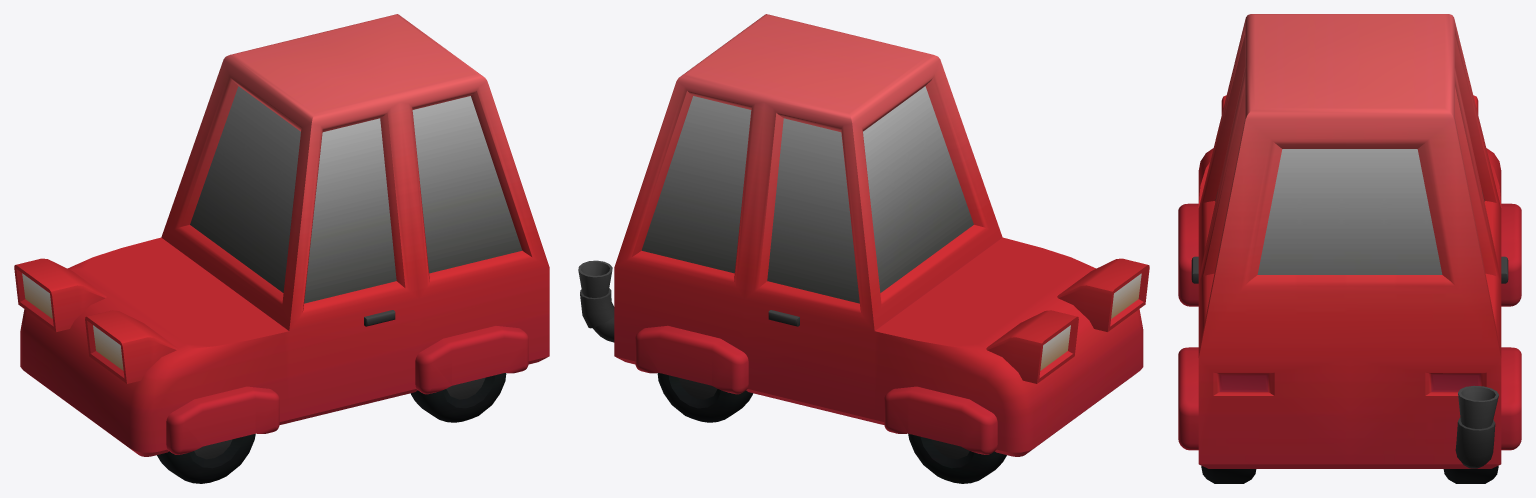
File: car-red.glb
3 renders of one model, left to right at view 1: azimuth 30°, elevation 25°; view 2: azimuth 150°, elevation 25°; view 3: azimuth 270°, elevation 25°, orthographic. The views are drawn at different scales.
Visible parts, largest first — view 1: BackWheels; view 2: BackWheels; view 3: BackWheels.
Part boxes in pixels (<box>): BackWheels: <box>14,14,549,483</box>; BackWheels: <box>578,14,1149,483</box>; BackWheels: <box>1178,14,1521,483</box>.
Size of the model in its own units: 1.32 by 0.9079 by 0.7225.
Materials: 1 (1 with a texture image).
